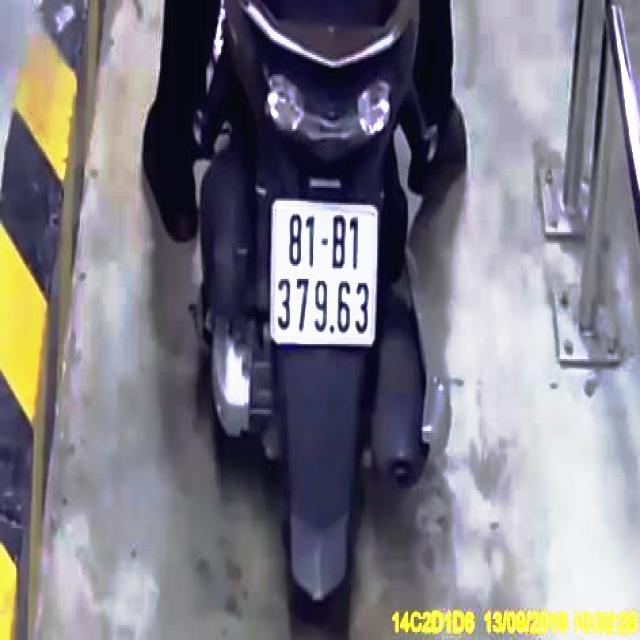license_plate: (269, 201, 377, 346)
